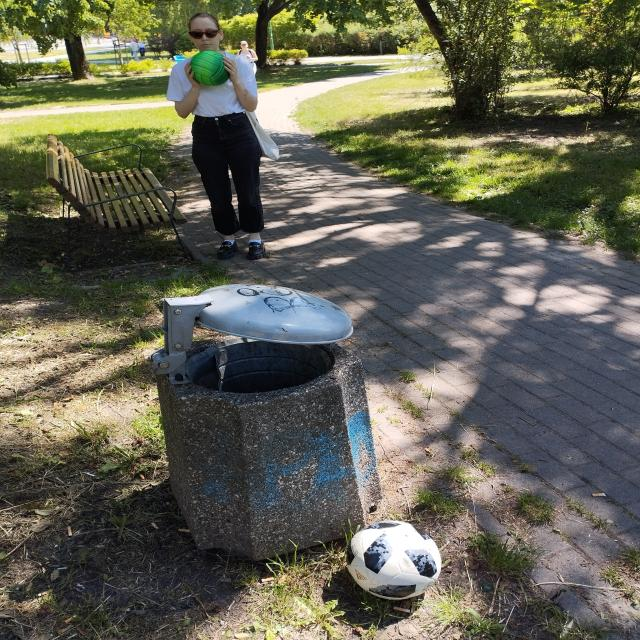nozna: (345, 520, 442, 600)
zielona: (190, 50, 231, 86)
